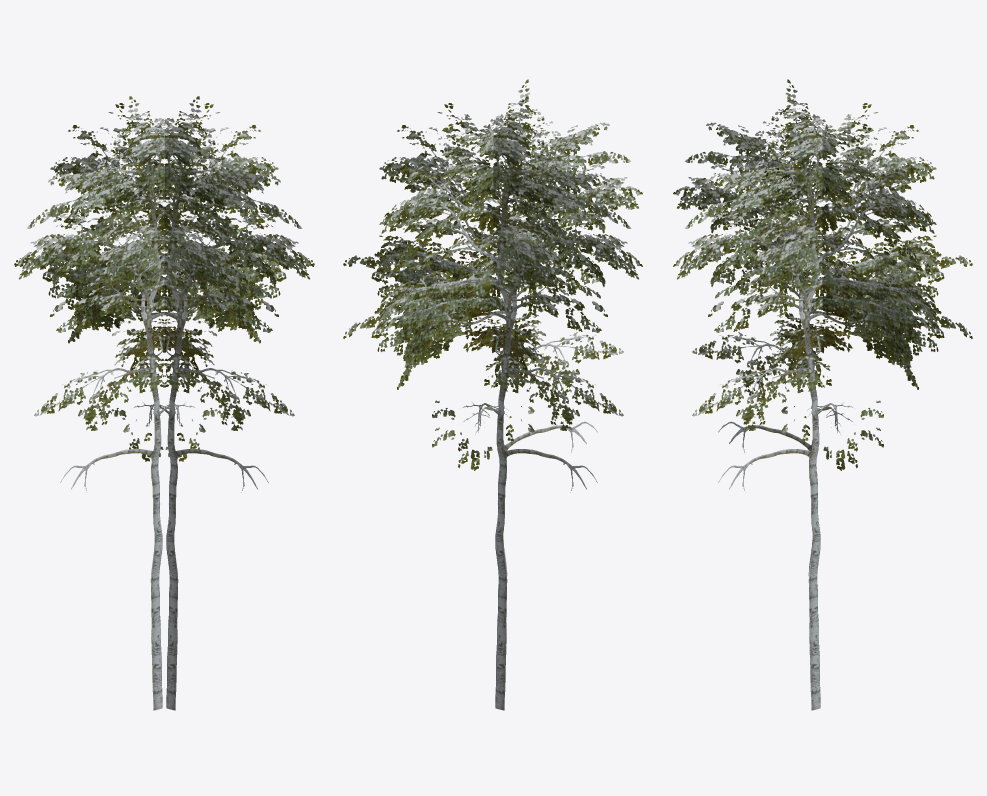
The model's file is tree_aspen_lod3.glb.
3 views of the same model, side by side, from view 1: azimuth 30°, elevation 25°; view 2: azimuth 150°, elevation 25°; view 3: azimuth 270°, elevation 25° (orthographic).
Parts seen in each view (by area): view 1: aspen2_LOD3; view 2: aspen2_LOD3; view 3: aspen2_LOD3.
Part boxes in pixels (x1=…): aspen2_LOD3: x1=14, y1=96, x2=314, y2=710; aspen2_LOD3: x1=343, y1=79, x2=642, y2=710; aspen2_LOD3: x1=673, y1=79, x2=972, y2=710.
Size of the model in its own units: 3.8 by 7.5 by 3.29.
1 material, 1 textured.
